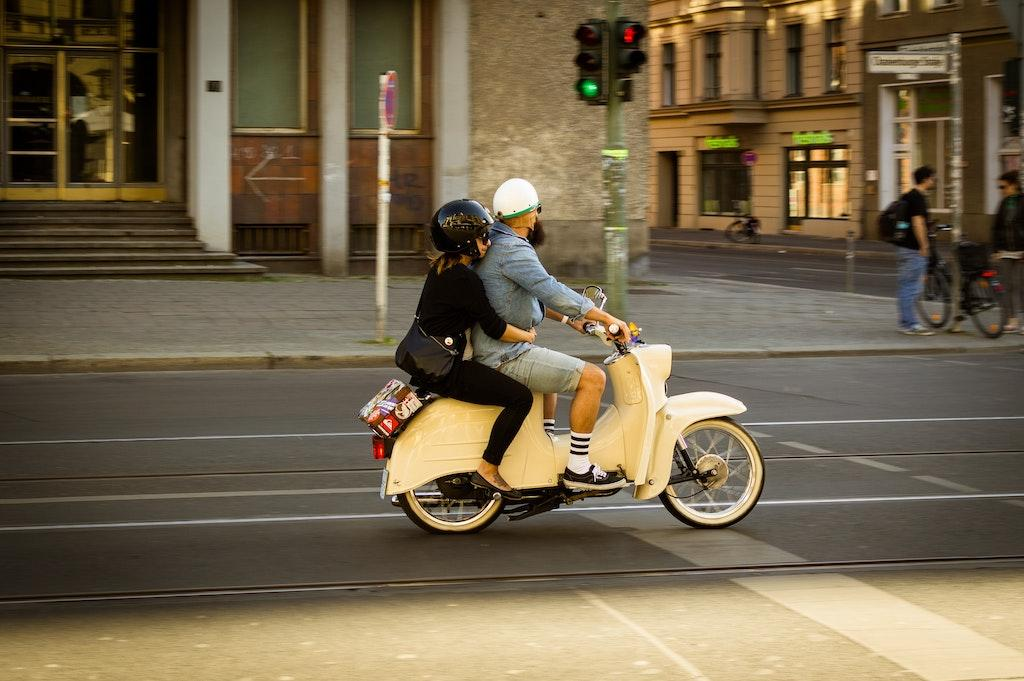helmet: (429, 198, 495, 261), (493, 177, 546, 247)
